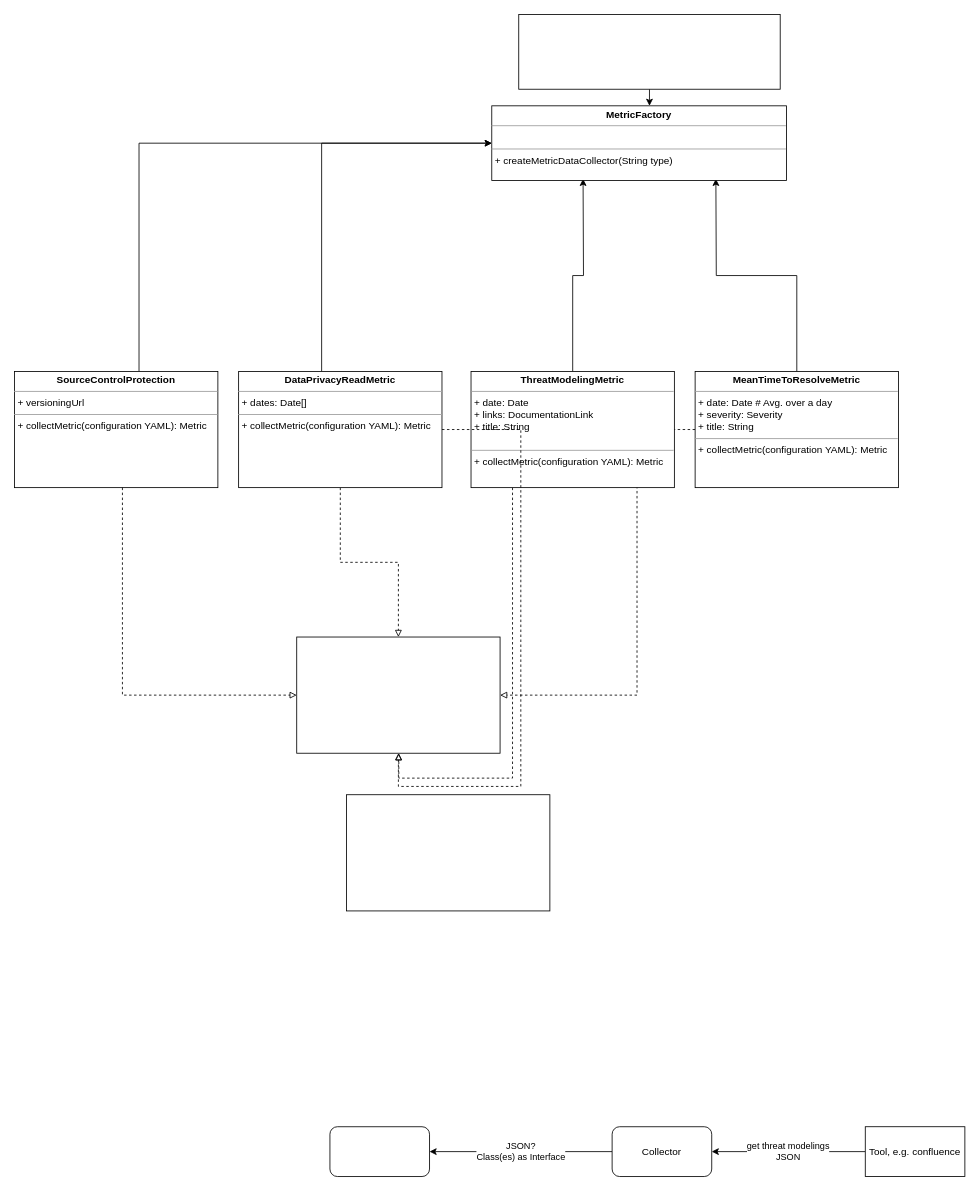
The diagram is 979 pixels wide and 1191 high, and some of its shapes have lost their labels. Here are the shapes that lost their labels. From the top down, the centre of each, then its label:
pixel 649 51: MetricCreator - readYamlAndcreateMetricDataCollector(File pathToYaml)
pixel 398 694: <<Interface>> Metric + collectMetric(configuration YAML): Metric
pixel 448 852: <<Interface>> DateMetric? - date + collectMetric(configuration YAML): Metric
pixel 379 1151: GenerateStatistics
